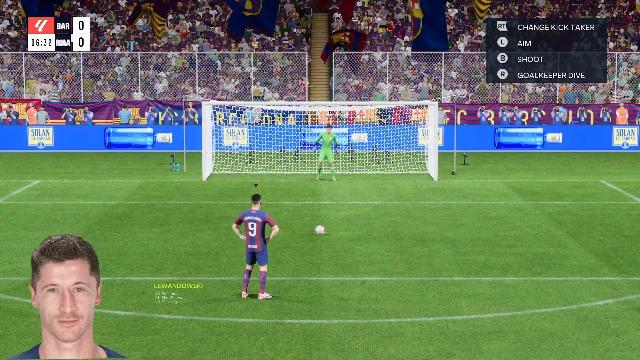football: (313, 227, 327, 235)
goal-bottom-left: (206, 148, 292, 180)
goal-bottom-right: (359, 148, 433, 180)
goal-middle-down: (291, 148, 361, 180)
goal-middle-up: (294, 106, 354, 146)
goal-top-left: (206, 104, 292, 146)
goal-top-right: (359, 104, 435, 146)
goalkeeper: (309, 126, 355, 182)
player: (229, 196, 281, 302)
